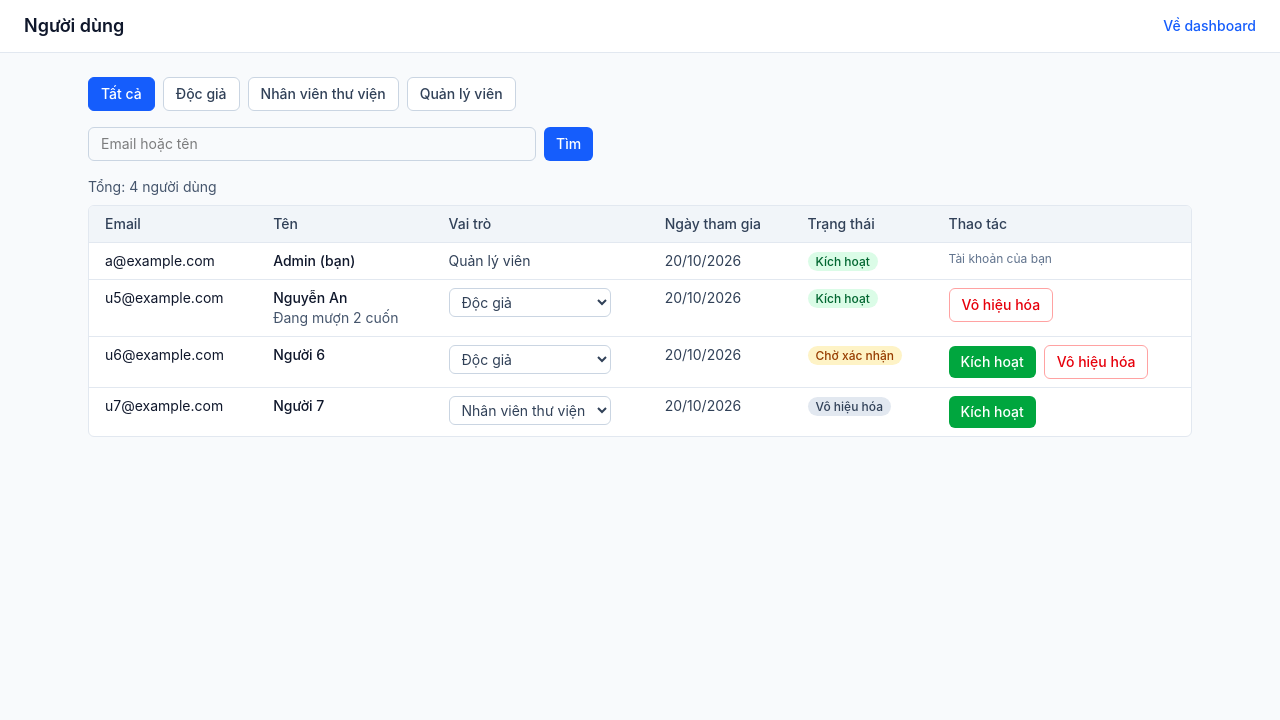
Test case: UsersPage (2.6.1) › edge 5: kích hoạt tài khoản Chờ xác nhận và Vô hiệu hóa
This screenshot has width=1280, height=720.
Click the button with aria-label "Kích hoạt u6@example.com". click: (992, 362)
box: [948,346,1036,378]
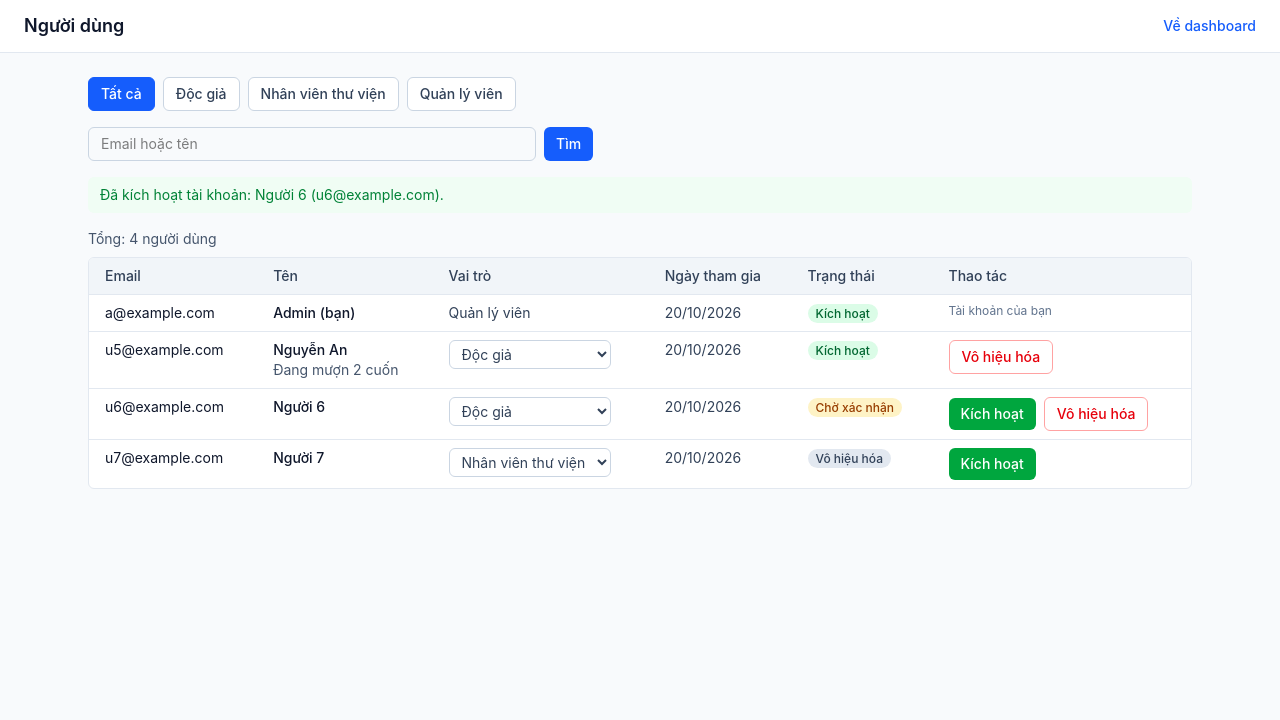
Expected: the message shows "Đã kích hoạt tài khoản", [100,186,444,203]
